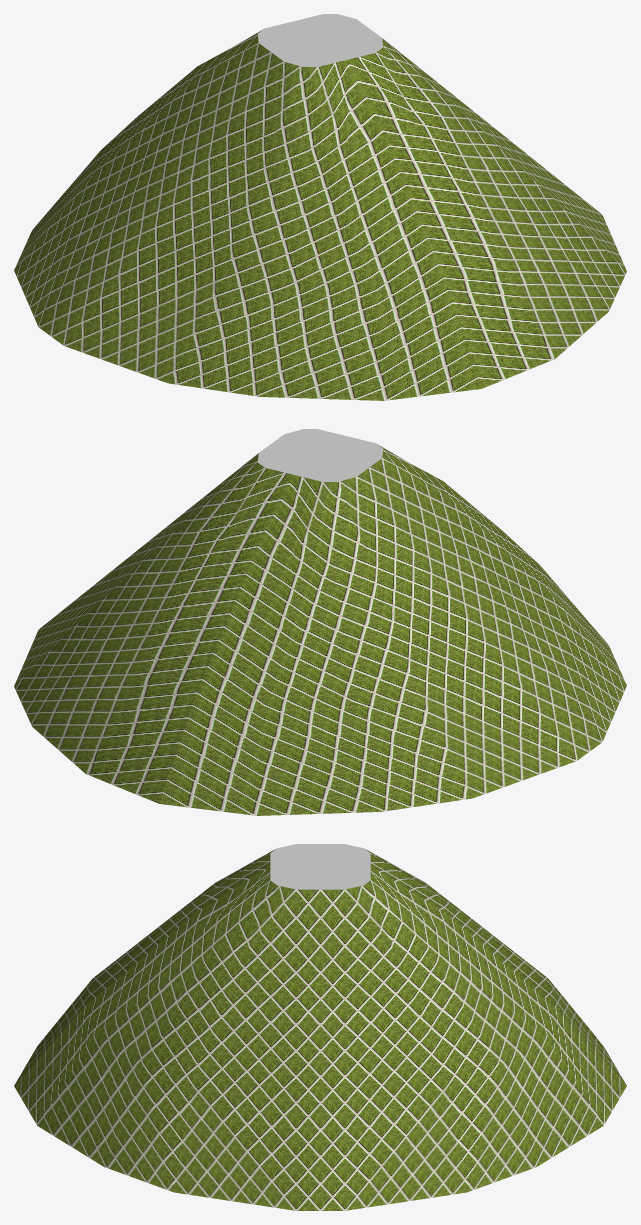
The model's file is LuJi.fbx.
The picture shows the model from 3 angles, top to bottom: view 1: azimuth 30°, elevation 25°; view 2: azimuth 150°, elevation 25°; view 3: azimuth 270°, elevation 25°; orthographic projection. The views are drawn at different scales.
Parts seen in each view (by area): view 1: LuJi_Bian, LuJi_Mian; view 2: LuJi_Bian, LuJi_Mian; view 3: LuJi_Bian, LuJi_Mian.
Part boxes in pixels (left/top/right/bottom): LuJi_Bian: left=14, top=29, right=626, bottom=400; LuJi_Mian: left=257, top=14, right=383, bottom=66; LuJi_Bian: left=14, top=444, right=626, bottom=815; LuJi_Mian: left=257, top=429, right=383, bottom=481; LuJi_Bian: left=14, top=849, right=626, bottom=1210; LuJi_Mian: left=270, top=844, right=370, bottom=889.
Size of the model in its own units: 12099 by 4950 by 12547.
